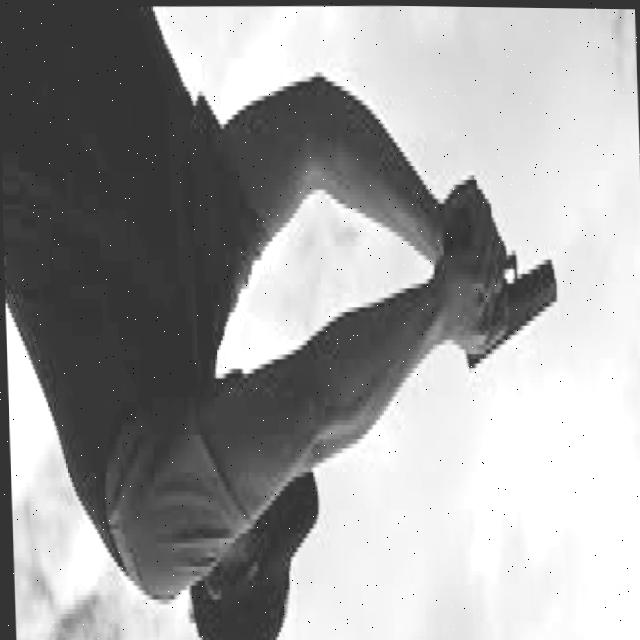pistol: (459, 241, 559, 374)
